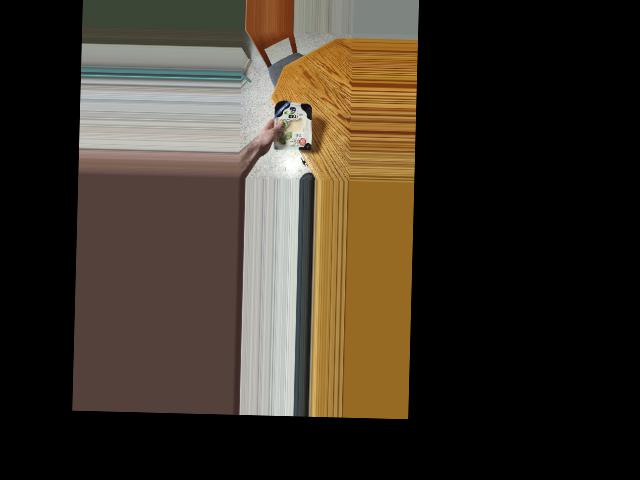cheese: (270, 100, 311, 153)
